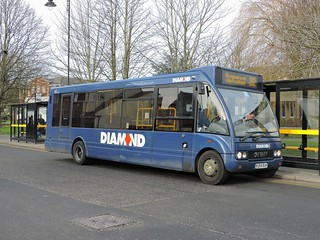bus: (43, 65, 282, 186)
